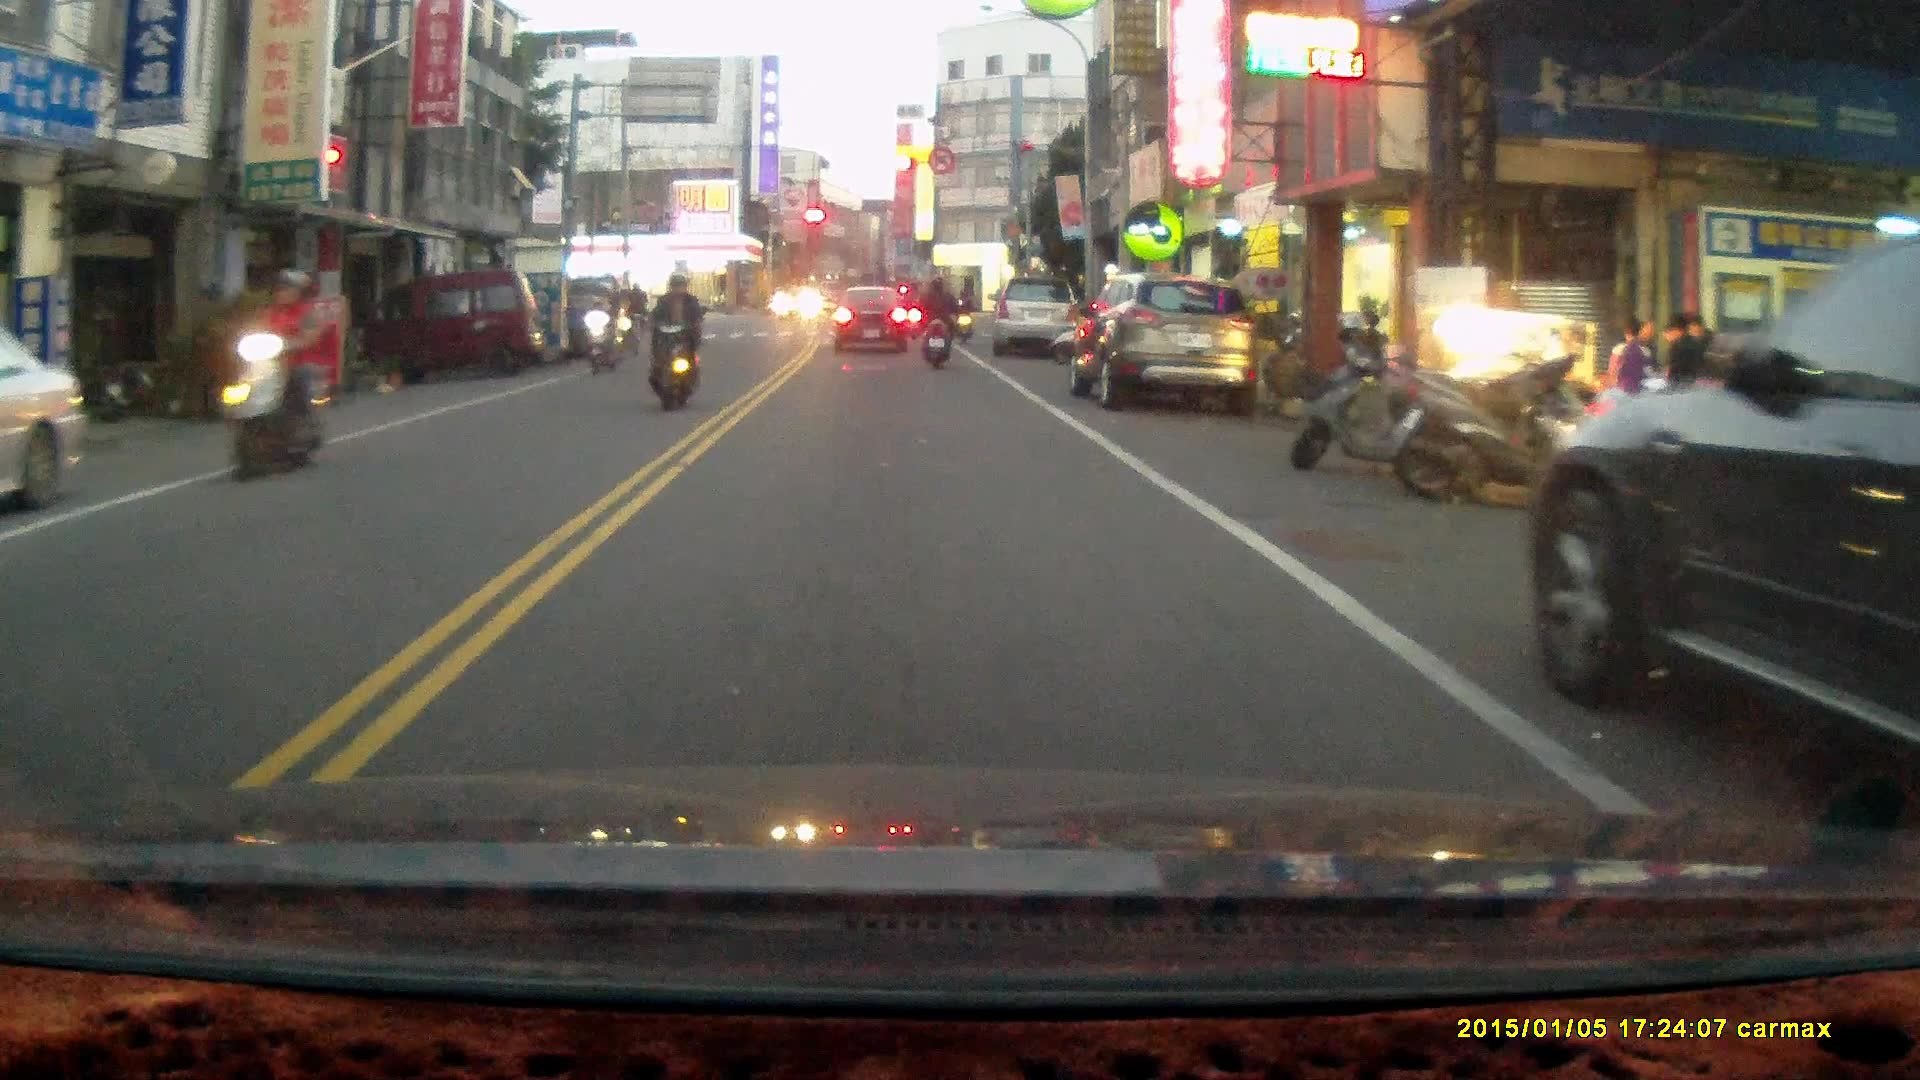pedestrian: (1658, 313, 1708, 439), (1608, 311, 1657, 436)
rider: (218, 263, 330, 485), (635, 270, 702, 411), (582, 278, 626, 375), (914, 271, 955, 372), (616, 274, 651, 356), (898, 277, 924, 337), (952, 285, 974, 343)
vehicle: (1521, 204, 1920, 806), (1070, 273, 1260, 412), (360, 270, 548, 382), (1, 315, 86, 523), (998, 273, 1081, 356)
